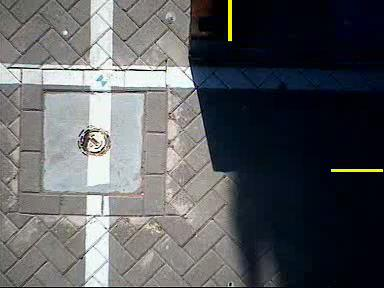groundmarker_2: (11, 123, 75, 271)
